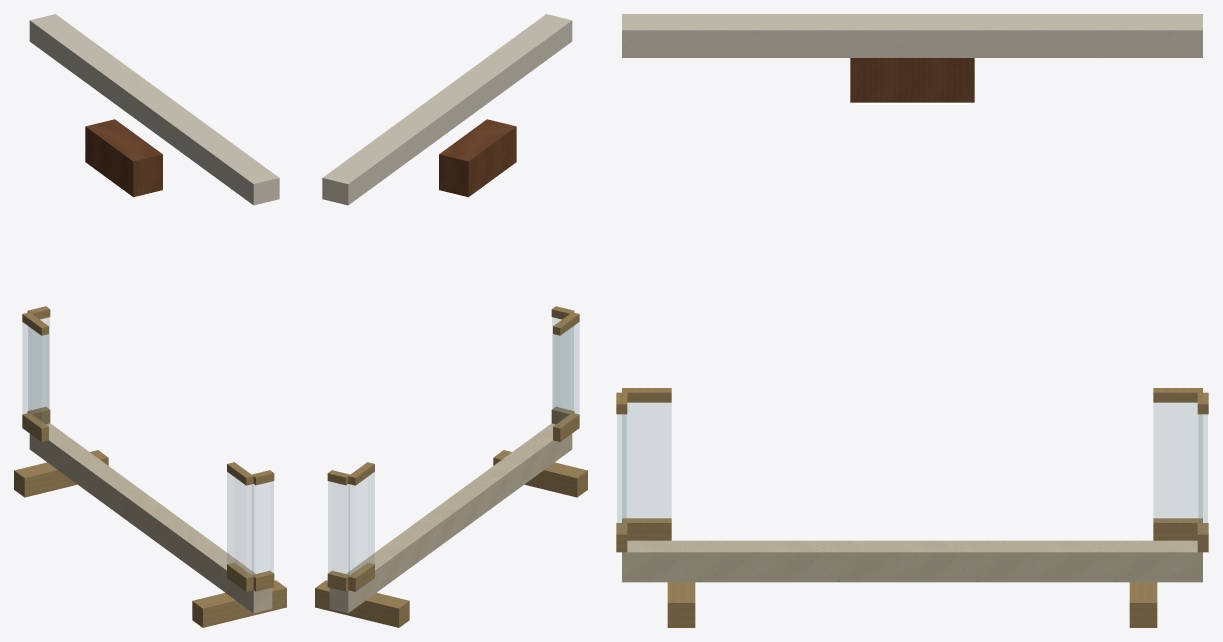
The model's file is D04_PORT_AFT_CORE_COLLAR_r001.glb.
The picture shows the model from 3 angles, left to right: view 1: azimuth 30°, elevation 25°; view 2: azimuth 150°, elevation 25°; view 3: azimuth 270°, elevation 25°; orthographic projection. The views are drawn at different scales.
Visible parts, largest first — view 1: D04PA_CollarRoof, D04PA_CollarFloor, D04PA_ThresholdLampHousing, PA_NorthClosedCoreEndGuard_ForeReturn, PA_NorthClosedCoreEndGuard_AftReturn, D04PA_CollarSideGuard_1, D04PA_CollarBearingBeam_1, D04PA_CollarSideGuard_0, D04PA_CollarBearingBeam_0, PA_NorthClosedCoreEndGuard_Base_ForeReturn, PA_NorthClosedCoreEndGuard_Base_AftReturn, D04PA_CollarSideGuardBase_1; view 2: D04PA_CollarRoof, D04PA_CollarFloor, D04PA_ThresholdLampHousing, PA_NorthClosedCoreEndGuard_AftReturn, PA_NorthClosedCoreEndGuard_ForeReturn, D04PA_CollarSideGuard_0, D04PA_CollarBearingBeam_0, D04PA_CollarSideGuard_1, D04PA_CollarBearingBeam_1, PA_NorthClosedCoreEndGuard_Base_AftReturn, PA_NorthClosedCoreEndGuard_Base_ForeReturn, D04PA_CollarSideGuardBase_0; view 3: D04PA_CollarRoof, D04PA_CollarFloor, PA_NorthClosedCoreEndGuard_ForeReturn, PA_NorthClosedCoreEndGuard_AftReturn, D04PA_ThresholdLampHousing, D04PA_CollarBearingBeam_0, D04PA_CollarBearingBeam_1, PA_NorthClosedCoreEndGuard_Base_ForeReturn, PA_NorthClosedCoreEndGuard_Base_AftReturn, D04PA_CollarSideGuard_0, D04PA_CollarSideGuard_1.
Part boxes in pixels (box(x1,y1,x2,y2)): D04PA_CollarRoof: box(29, 14, 279, 205); D04PA_CollarFloor: box(29, 423, 272, 613); D04PA_ThresholdLampHousing: box(85, 119, 162, 197); PA_NorthClosedCoreEndGuard_ForeReturn: box(22, 322, 48, 426); PA_NorthClosedCoreEndGuard_AftReturn: box(227, 472, 253, 575); D04PA_CollarSideGuard_1: box(252, 481, 273, 574); D04PA_CollarBearingBeam_1: box(192, 580, 286, 627); D04PA_CollarSideGuard_0: box(28, 317, 49, 410); D04PA_CollarBearingBeam_0: box(14, 450, 108, 497); PA_NorthClosedCoreEndGuard_Base_ForeReturn: box(22, 412, 48, 441); PA_NorthClosedCoreEndGuard_Base_AftReturn: box(227, 562, 253, 591); D04PA_CollarSideGuardBase_1: box(252, 570, 274, 591); D04PA_CollarRoof: box(322, 14, 572, 205); D04PA_CollarFloor: box(329, 423, 572, 613); D04PA_ThresholdLampHousing: box(439, 119, 516, 197); PA_NorthClosedCoreEndGuard_AftReturn: box(553, 322, 579, 426); PA_NorthClosedCoreEndGuard_ForeReturn: box(348, 472, 374, 575); D04PA_CollarSideGuard_0: box(328, 481, 349, 574); D04PA_CollarBearingBeam_0: box(315, 580, 409, 627); D04PA_CollarSideGuard_1: box(552, 317, 573, 410); D04PA_CollarBearingBeam_1: box(493, 450, 587, 497); PA_NorthClosedCoreEndGuard_Base_AftReturn: box(553, 412, 579, 441); PA_NorthClosedCoreEndGuard_Base_ForeReturn: box(348, 562, 374, 591); D04PA_CollarSideGuardBase_0: box(327, 570, 349, 591); D04PA_CollarRoof: box(622, 14, 1202, 57); D04PA_CollarFloor: box(622, 540, 1202, 582); PA_NorthClosedCoreEndGuard_ForeReturn: box(1153, 403, 1202, 518); PA_NorthClosedCoreEndGuard_AftReturn: box(622, 403, 671, 518); D04PA_ThresholdLampHousing: box(850, 58, 974, 102); D04PA_CollarBearingBeam_0: box(1129, 582, 1157, 627); D04PA_CollarBearingBeam_1: box(667, 582, 695, 627); PA_NorthClosedCoreEndGuard_Base_ForeReturn: box(1153, 518, 1202, 540); PA_NorthClosedCoreEndGuard_Base_AftReturn: box(622, 518, 671, 540); D04PA_CollarSideGuard_0: box(1199, 414, 1207, 522); D04PA_CollarSideGuard_1: box(617, 414, 625, 522).
Bounding box in the file's own units: 0.91 × 4.64 × 4.28.
Materials: 6 (4 with a texture image).
